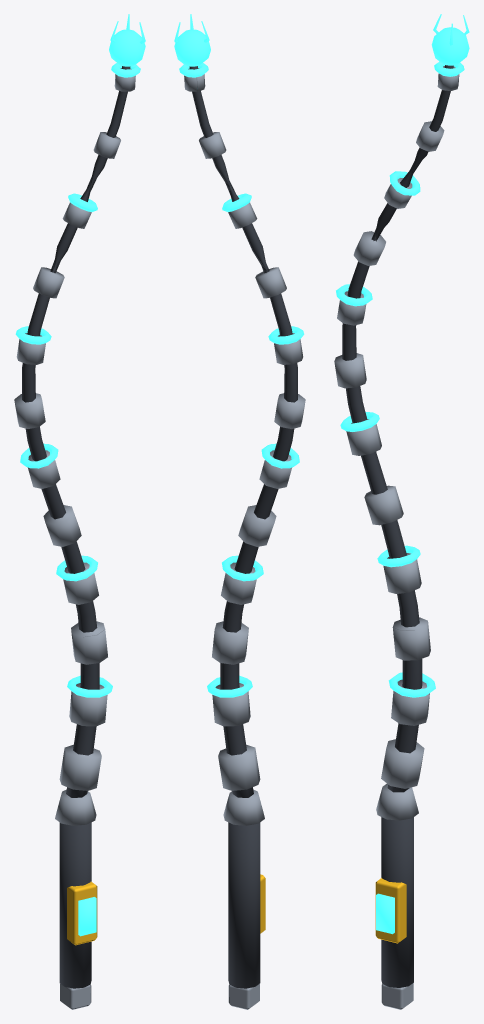
Rendered from 11_mechanical_whip.fbx.
3 renders of one model, left to right at view 1: azimuth 30°, elevation 25°; view 2: azimuth 150°, elevation 25°; view 3: azimuth 330°, elevation 25°, orthographic. The views are drawn at different scales.
Visible parts, largest first — view 1: Weapon; view 2: Weapon; view 3: Weapon.
Part boxes in pixels (x1,y1,x2,y2): Weapon: (14,14,145,1009); Weapon: (174,14,305,1009); Weapon: (334,14,469,1009).
Size of the model in its own units: 22.95 by 168 by 7.72.
2 materials, 1 textured.
